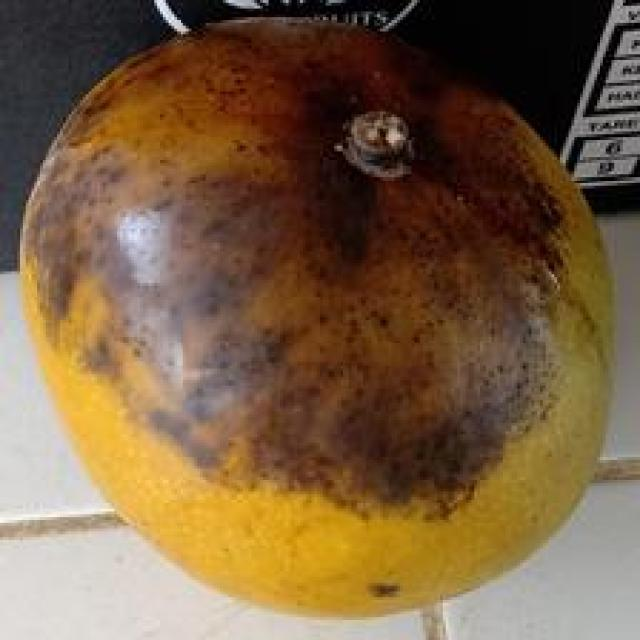Bad_Mango: (26, 24, 611, 614)
